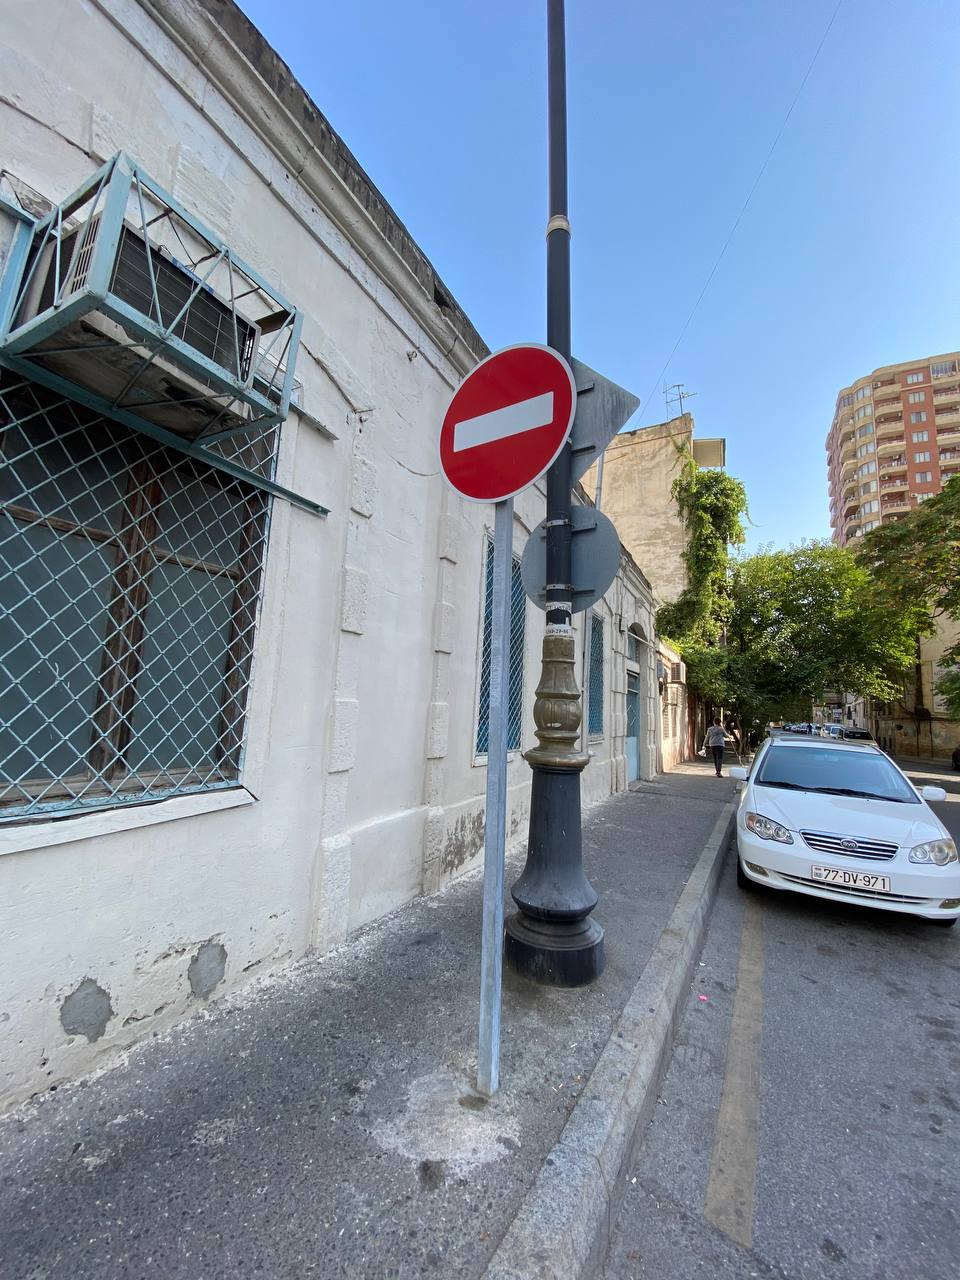No Entry: (436, 342, 576, 504)
